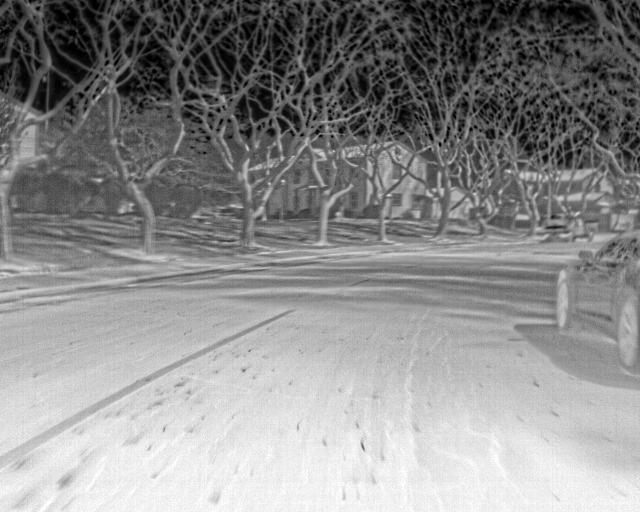car: (552, 229, 639, 371)
